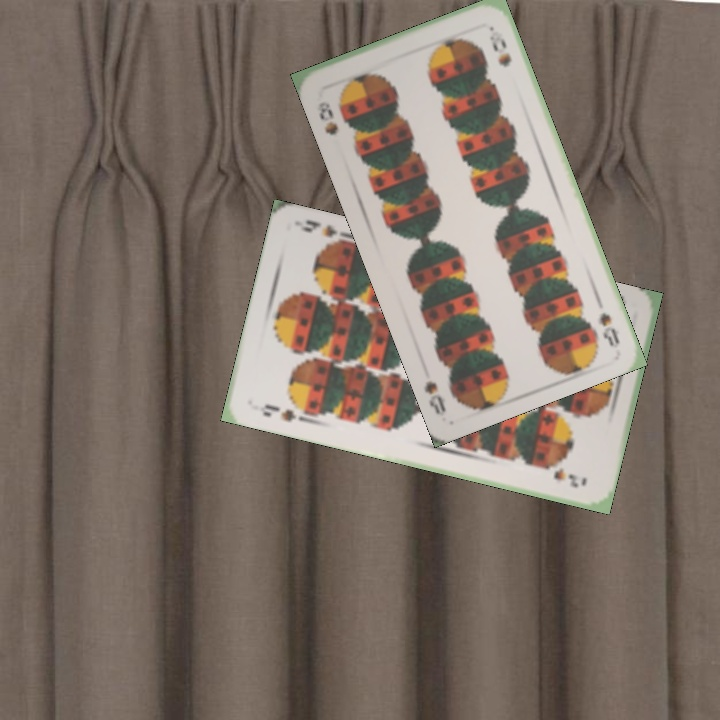S8: (313, 97, 341, 138), (595, 309, 622, 350)
S9: (256, 400, 299, 425)
